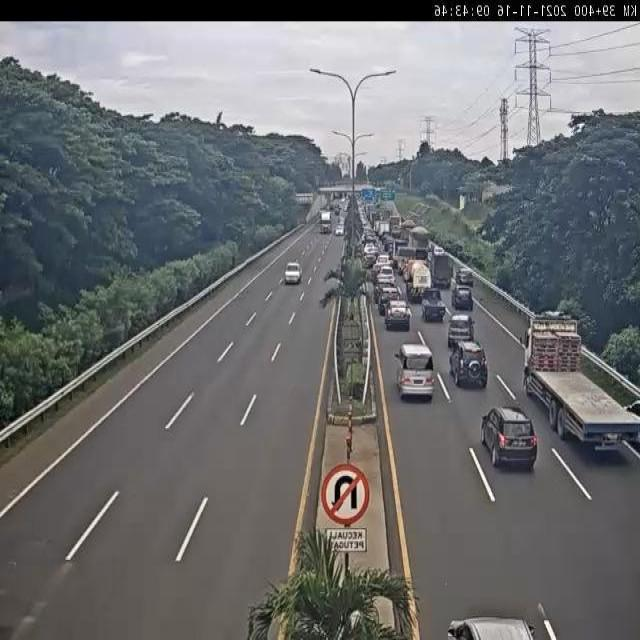Car: (483, 406, 544, 477), (395, 343, 436, 402), (445, 616, 537, 640), (450, 340, 489, 388), (447, 313, 476, 349), (384, 299, 412, 331), (421, 290, 447, 322), (452, 284, 473, 310), (284, 262, 302, 284), (456, 268, 474, 288)
Truck: (520, 311, 640, 458)
